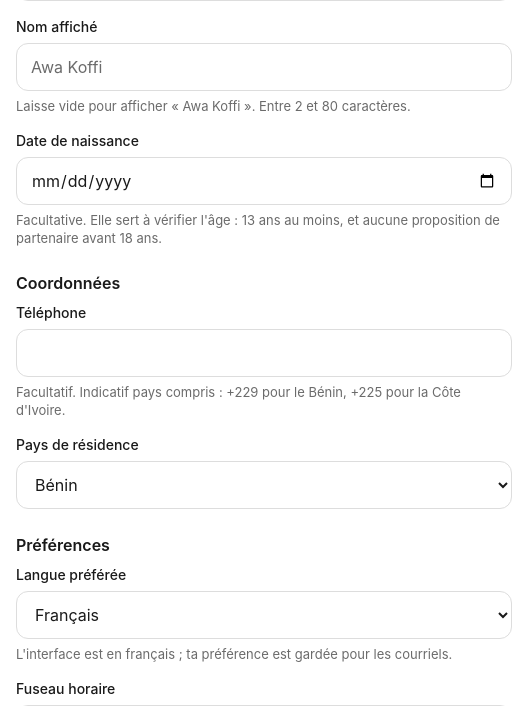
Test: Mon compte › une saisie valide part en PUT et l'écran le confirme
(page scrolled)
Type "+229 01 97 00 00 00" into the field labelled "Téléphone" at (264, 353), box [16,329,512,377]
(page scrolled)
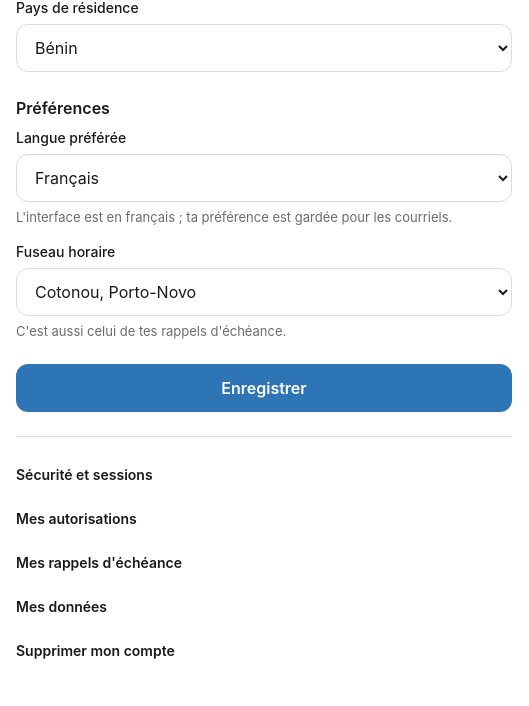
Click the button "Enregistrer" at (264, 388), box [16,364,512,412]
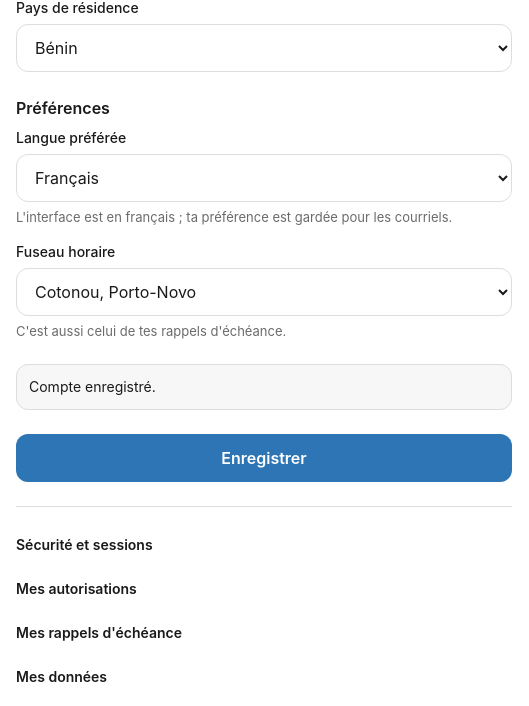
Result: the message reads "Compte enregistré." at [29,378,156,395]
